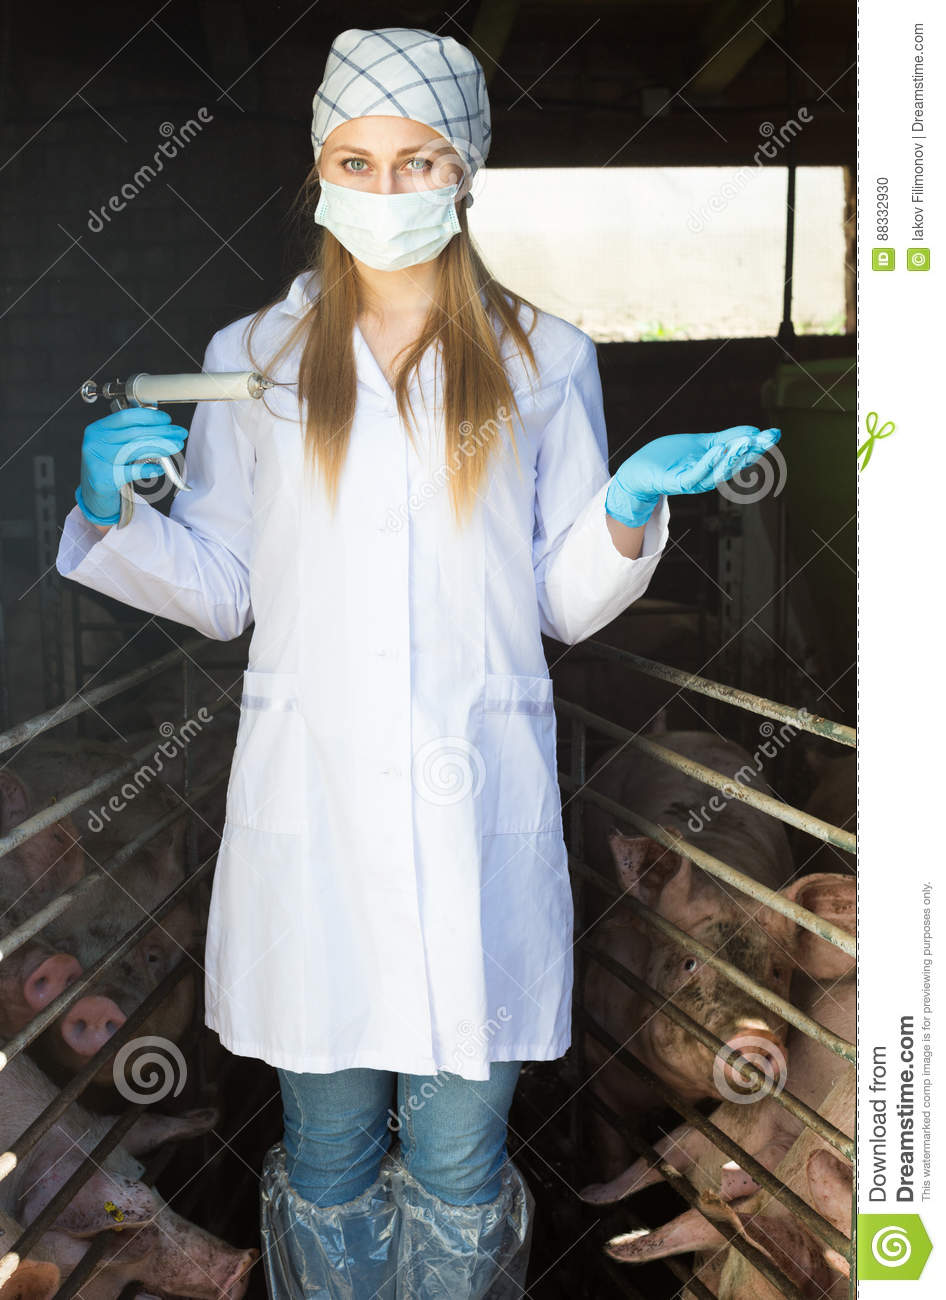mask: (311, 179, 467, 283)
